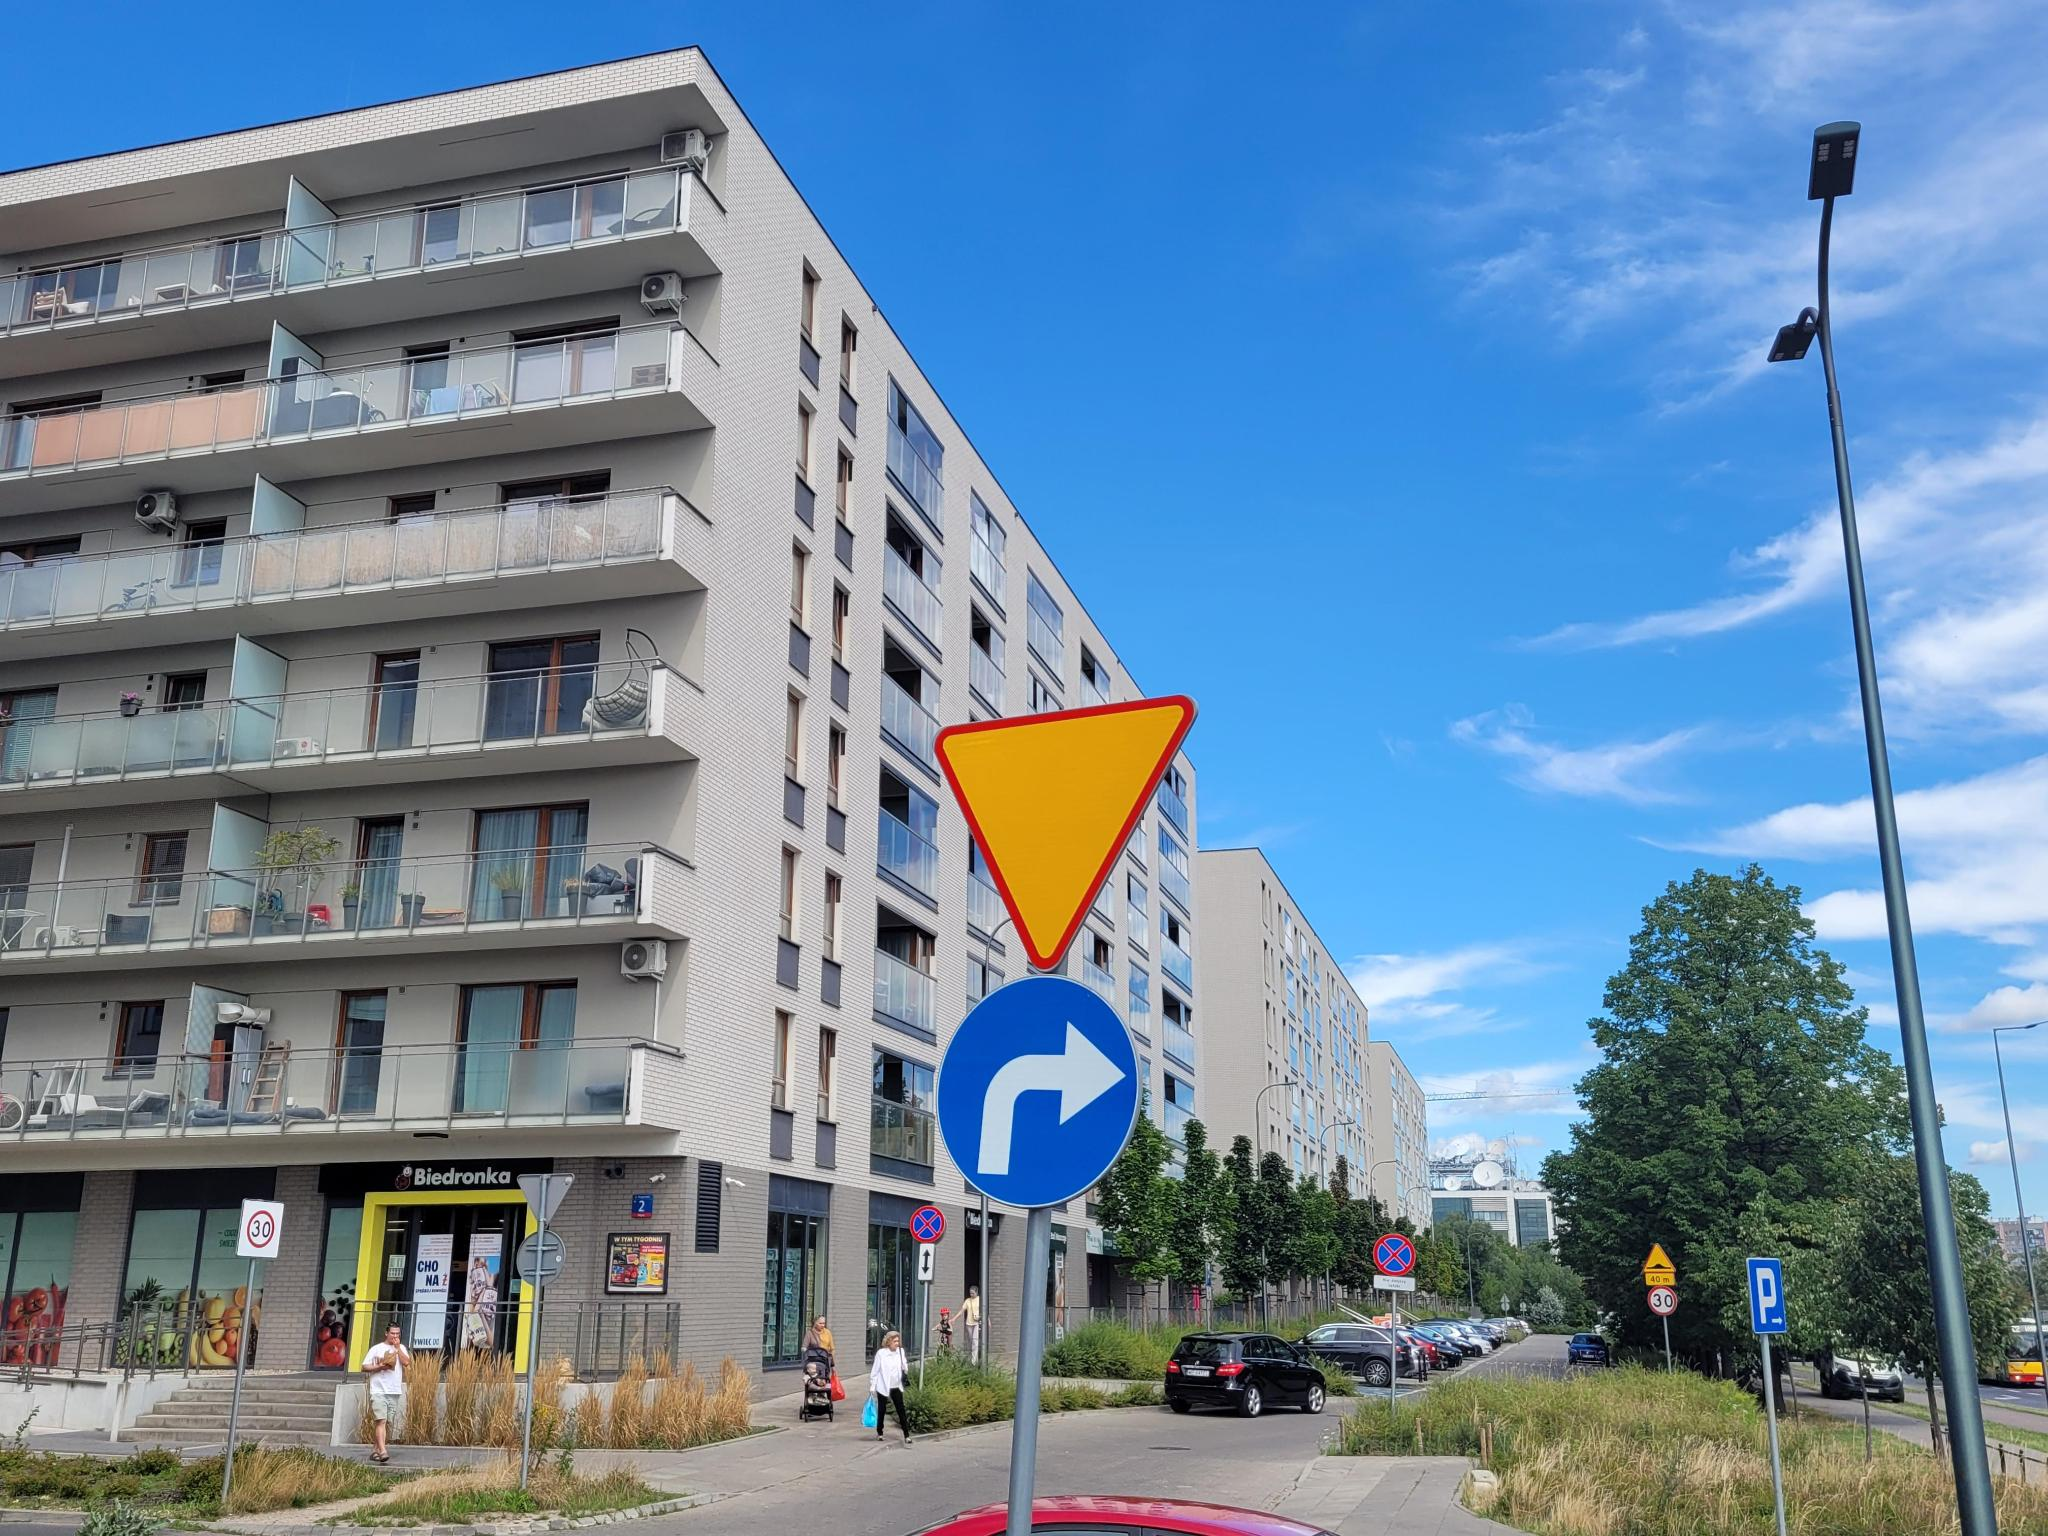information: (1748, 1257, 1787, 1333)
mandatory: (932, 973, 1140, 1210)
other: (1374, 1276, 1414, 1291), (919, 1244, 932, 1279), (1646, 1273, 1675, 1284)
prohibitory: (1374, 1233, 1416, 1276), (910, 1205, 947, 1242), (247, 1210, 276, 1249), (1648, 1284, 1679, 1315)
warning: (934, 694, 1201, 973), (1643, 1242, 1677, 1271)
